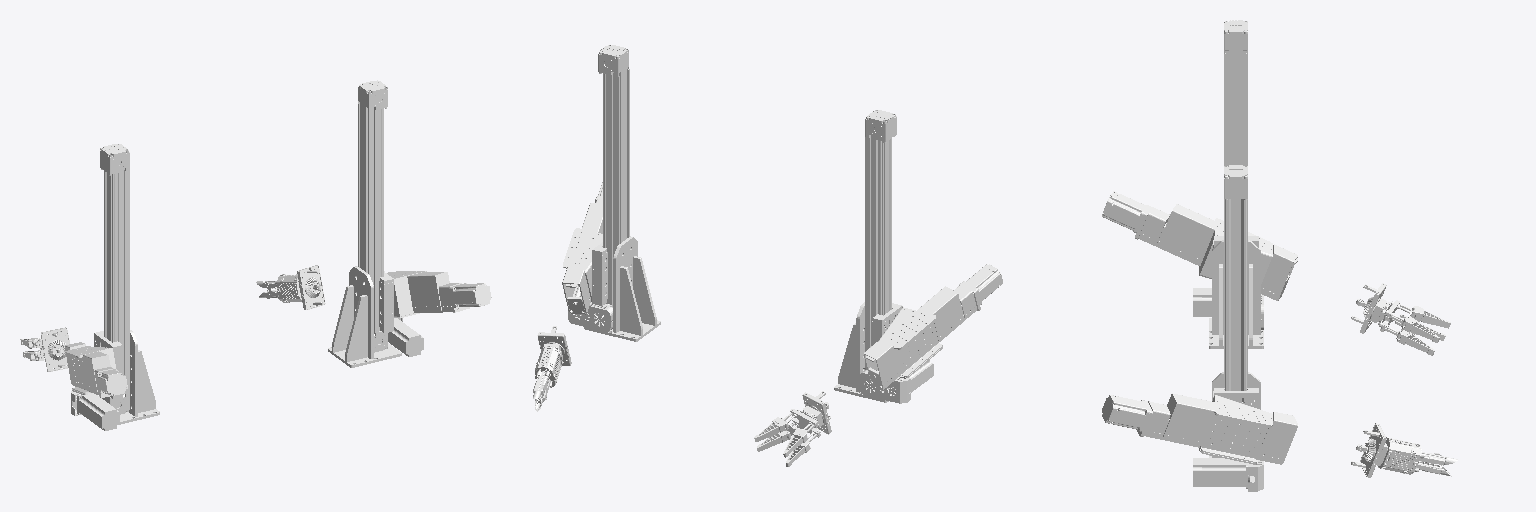
The robot description file, URDF, robot "double_arm_robot":
<?xml version="1.0" encoding="utf-8"?>
<!-- This URDF was automatically created by SolidWorks to URDF Exporter! Originally created by Stephen Brawner (brawner@gmail.com) 
     Commit Version: 1.6.0-4-g7f85cfe  Build Version: 1.6.7995.38578
     For more information, please see http://wiki.ros.org/sw_urdf_exporter -->
<robot
  name="double_arm_robot">
  <link
    name="base_link">
    <inertial>
      <origin
        xyz="0.39112 -0.004586 -0.30234"
        rpy="0 0 0" />
      <mass
        value="57.511" />
      <inertia
        ixx="0.61783"
        ixy="9.8505E-05"
        ixz="-5.1567E-07"
        iyy="1.5192"
        iyz="-0.00061905"
        izz="1.484" />
    </inertial>
    <visual>
      <origin
        xyz="0 0 0"
        rpy="0 0 0" />
      <geometry>
        <mesh
          filename="package://double_arm_robot/meshes/base_link.STL" />
      </geometry>
      <material
        name="">
        <color
          rgba="1 1 1 1" />
      </material>
    </visual>
    <collision>
      <origin
        xyz="0 0 0"
        rpy="0 0 0" />
      <geometry>
        <mesh
          filename="package://double_arm_robot/meshes/base_link.STL" />
      </geometry>
    </collision>
  </link>
  <link
    name="L_Link_1">
    <inertial>
      <origin
        xyz="-0.024771 -0.0043237 0.28739"
        rpy="0 0 0" />
      <mass
        value="3.1457" />
      <inertia
        ixx="0.067494"
        ixy="-2.2004E-06"
        ixz="6.2878E-05"
        iyy="0.067114"
        iyz="9.2361E-09"
        izz="0.0024915" />
    </inertial>
    <visual>
      <origin
        xyz="0 0 0"
        rpy="0 0 0" />
      <geometry>
        <mesh
          filename="package://double_arm_robot/meshes/L_Link_1.STL" />
      </geometry>
      <material
        name="">
        <color
          rgba="1 1 1 1" />
      </material>
    </visual>
    <collision>
      <origin
        xyz="0 0 0"
        rpy="0 0 0" />
      <geometry>
        <mesh
          filename="package://double_arm_robot/meshes/L_Link_1.STL" />
      </geometry>
    </collision>
  </link>



  <joint
    name="L_Joint_1"
    type="prismatic">
    <origin
      xyz="0 0 0"
      rpy="0 0 0" />
    <parent
      link="base_link" />
    <child
      link="L_Link_1" />
    <axis
      xyz="1 0 0" />
    <limit
      lower="0"
      upper="0.28"
      effort="0"
      velocity="0" />
  </joint>
  <link
    name="L_Link_2">
    <inertial>
      <origin
        xyz="-0.067025 -0.078651 0.101"
        rpy="0 0 0" />
      <mass
        value="1.5139" />
      <inertia
        ixx="0.0054325"
        ixy="-0.00072379"
        ixz="0.0002593"
        iyy="0.0024927"
        iyz="0.0007735"
        izz="0.0041891" />
    </inertial>
    <visual>
      <origin
        xyz="0 0 0"
        rpy="0 0 0" />
      <geometry>
        <mesh
          filename="package://double_arm_robot/meshes/L_Link_2.STL" />
      </geometry>
      <material
        name="">
        <color
          rgba="1 1 1 1" />
      </material>
    </visual>
    <collision>
      <origin
        xyz="0 0 0"
        rpy="0 0 0" />
      <geometry>
        <mesh
          filename="package://double_arm_robot/meshes/L_Link_2.STL" />
      </geometry>
    </collision>
  </link>


  <joint
    name="L_Joint_2"
    type="prismatic">
    <origin
      xyz="-0.04907 -4.0933E-05 0.06775"
      rpy="0 0 0" />
    <parent
      link="L_Link_1" />
    <child
      link="L_Link_2" />
    <axis
      xyz="0 0 -1" />
    <limit
      lower="-0.5"
      upper="0.05"
      effort="0"
      velocity="0" />
  </joint>



  <link
    name="L_Link_3">
    <inertial>
      <origin
        xyz="-5.6684E-05 0.26922 0.00033286"
        rpy="0 0 0" />
      <mass
        value="0.29852" />
      <inertia
        ixx="0.0013422"
        ixy="-8.2507E-08"
        ixz="3.3034E-07"
        iyy="9.1593E-05"
        iyz="7.0197E-07"
        izz="0.0013466" />
    </inertial>
    <visual>
      <origin
        xyz="0 0 0"
        rpy="0 0 0" />
      <geometry>
        <mesh
          filename="package://double_arm_robot/meshes/L_Link_3.STL" />
      </geometry>
      <material
        name="">
        <color
          rgba="1 1 1 1" />
      </material>
    </visual>
    <collision>
      <origin
        xyz="0 0 0"
        rpy="0 0 0" />
      <geometry>
        <mesh
          filename="package://double_arm_robot/meshes/L_Link_3.STL" />
      </geometry>
    </collision>
  </link>



  <joint
    name="L_Joint_3"
    type="prismatic">
    <origin
      xyz="-0.11137 -0.16079 0.16664"
      rpy="-0.33807 -0.088637 -0.24666" />
    <parent
      link="L_Link_2" />
    <child
      link="L_Link_3" />
    <axis
      xyz="0 1 0" />
    <limit
      lower="-0.01"
      upper="0.25"
      effort="0"
      velocity="0" />
  </joint>



  <link
    name="L_Link_4">
    <inertial>
      <origin
        xyz="1.6778E-06 0.064046 2.4249E-05"
        rpy="0 0 0" />
      <mass
        value="0.24856" />
      <inertia
        ixx="0.00012628"
        ixy="-3.9951E-10"
        ixz="9.3763E-08"
        iyy="0.00014245"
        iyz="-9.2122E-09"
        izz="0.00019433" />
    </inertial>
    <visual>
      <origin
        xyz="0 0 0"
        rpy="0 0 0" />
      <geometry>
        <mesh
          filename="package://double_arm_robot/meshes/L_Link_4.STL" />
      </geometry>
      <material
        name="">
        <color
          rgba="1 1 1 1" />
      </material>
    </visual>
    <collision>
      <origin
        xyz="0 0 0"
        rpy="0 0 0" />
      <geometry>
        <mesh
          filename="package://double_arm_robot/meshes/L_Link_4.STL" />
      </geometry>
    </collision>
  </link>



  <joint
    name="L_Joint_4"
    type="revolute">
    <origin
      xyz="0 0.38477 0.00041604"
      rpy="0 0 0" />
    <parent
      link="L_Link_3" />
    <child
      link="L_Link_4" />
    <axis
      xyz="0 1 0" />
    <limit
      lower="-2.3562"
      upper="2.3562"
      effort="0"
      velocity="0" />
  </joint>




  <link
    name="L_Link_5">
    <inertial>
      <origin
        xyz="0.00049424 0.031226 -0.045011"
        rpy="0 0 0" />
      <mass
        value="0.058132" />
      <inertia
        ixx="5.4412E-05"
        ixy="8.3931E-13"
        ixz="-1.3302E-10"
        iyy="8.4403E-05"
        iyz="-4.8478E-09"
        izz="3.265E-05" />
    </inertial>
    <visual>
      <origin
        xyz="0 0 0"
        rpy="0 0 0" />
      <geometry>
        <mesh
          filename="package://double_arm_robot/meshes/L_Link_5.STL" />
      </geometry>
      <material
        name="">
        <color
          rgba="1 1 1 1" />
      </material>
    </visual>
    <collision>
      <origin
        xyz="0 0 0"
        rpy="0 0 0" />
      <geometry>
        <mesh
          filename="package://double_arm_robot/meshes/L_Link_5.STL" />
      </geometry>
    </collision>
  </link>




  <joint
    name="L_Joint_5"
    type="revolute">
    <origin
      xyz="-0.00073394 0.12758 0.045"
      rpy="0 0 0" />
    <parent
      link="L_Link_4" />
    <child
      link="L_Link_5" />
    <axis
      xyz="0 0 -1" />
    <limit
      lower="-1.57"
      upper="1.57"
      effort="0"
      velocity="0" />
  </joint>




  <link
    name="L_Link_6">
    <inertial>
      <origin
        xyz="1.8034E-07 0.056195 5.7197E-05"
        rpy="0 0 0" />
      <mass
        value="0.28245" />
      <inertia
        ixx="8.7418E-05"
        ixy="1.8572E-11"
        ixz="1.0663E-08"
        iyy="0.00010574"
        iyz="3.9999E-08"
        izz="0.00011382" />
    </inertial>
    <visual>
      <origin
        xyz="0 0 0"
        rpy="0 0 0" />
      <geometry>
        <mesh
          filename="package://double_arm_robot/meshes/L_Link_6.STL" />
      </geometry>
      <material
        name="">
        <color
          rgba="1 1 1 1" />
      </material>
    </visual>
    <collision>
      <origin
        xyz="0 0 0"
        rpy="0 0 0" />
      <geometry>
        <mesh
          filename="package://double_arm_robot/meshes/L_Link_6.STL" />
      </geometry>
    </collision>
  </link>



  <joint
    name="L_Joint_6"
    type="revolute">
    <origin
      xyz="0.00073394 0.040168 -0.045"
      rpy="0 0 0" />
    <parent
      link="L_Link_5" />
    <child
      link="L_Link_6" />
    <axis
      xyz="0 -1 0" />
    <limit
      lower="-2.3562"
      upper="2.3562"
      effort="0"
      velocity="0" />
  </joint>




  <link
    name="R_Link_1">
    <inertial>
      <origin
        xyz="0.024771 -0.0042446 0.28739"
        rpy="0 0 0" />
      <mass
        value="3.1457" />
      <inertia
        ixx="0.067494"
        ixy="2.2064E-06"
        ixz="-6.2878E-05"
        iyy="0.067114"
        iyz="2.248E-08"
        izz="0.0024915" />
    </inertial>
    <visual>
      <origin
        xyz="0 0 0"
        rpy="0 0 0" />
      <geometry>
        <mesh
          filename="package://double_arm_robot/meshes/R_Link_1.STL" />
      </geometry>
      <material
        name="">
        <color
          rgba="1 1 1 1" />
      </material>
    </visual>
    <collision>
      <origin
        xyz="0 0 0"
        rpy="0 0 0" />
      <geometry>
        <mesh
          filename="package://double_arm_robot/meshes/R_Link_1.STL" />
      </geometry>
    </collision>
  </link>


  <joint
    name="R_Joint_1"
    type="prismatic">
    <origin
      xyz="0.78482 -8.1869E-05 0"
      rpy="0 0 0" />
    <parent
      link="base_link" />
    <child
      link="R_Link_1" />
    <axis
      xyz="1 0 0" />
    <limit
      lower="-0.31"
      upper="0.01"
      effort="0"
      velocity="0" />
  </joint>



  <link
    name="R_Link_2">
    <inertial>
      <origin
        xyz="0.067023 -0.078652 0.101"
        rpy="0 0 0" />
      <mass
        value="1.5139" />
      <inertia
        ixx="0.0054325"
        ixy="0.00072377"
        ixz="-0.00025932"
        iyy="0.0024927"
        iyz="0.0007735"
        izz="0.0041891" />
    </inertial>
    <visual>
      <origin
        xyz="0 0 0"
        rpy="0 0 0" />
      <geometry>
        <mesh
          filename="package://double_arm_robot/meshes/R_Link_2.STL" />
      </geometry>
      <material
        name="">
        <color
          rgba="1 1 1 1" />
      </material>
    </visual>
    <collision>
      <origin
        xyz="0 0 0"
        rpy="0 0 0" />
      <geometry>
        <mesh
          filename="package://double_arm_robot/meshes/R_Link_2.STL" />
      </geometry>
    </collision>
  </link>




  <joint
    name="R_Joint_2"
    type="prismatic">
    <origin
      xyz="0.04907 4.0935E-05 0.06775"
      rpy="0 0 0" />
    <parent
      link="R_Link_1" />
    <child
      link="R_Link_2" />
    <axis
      xyz="0 0 -1" />
    <limit
      lower="-0.5"
      upper="0.05"
      effort="0"
      velocity="0" />
  </joint>



  <link
    name="R_Link_3">
    <inertial>
      <origin
        xyz="-5.6684E-05 0.26922 0.00033286"
        rpy="0 0 0" />
      <mass
        value="0.29852" />
      <inertia
        ixx="0.0013422"
        ixy="-8.2507E-08"
        ixz="3.3034E-07"
        iyy="9.1593E-05"
        iyz="7.0197E-07"
        izz="0.0013466" />
    </inertial>
    <visual>
      <origin
        xyz="0 0 0"
        rpy="0 0 0" />
      <geometry>
        <mesh
          filename="package://double_arm_robot/meshes/R_Link_3.STL" />
      </geometry>
      <material
        name="">
        <color
          rgba="1 1 1 1" />
      </material>
    </visual>
    <collision>
      <origin
        xyz="0 0 0"
        rpy="0 0 0" />
      <geometry>
        <mesh
          filename="package://double_arm_robot/meshes/R_Link_3.STL" />
      </geometry>
    </collision>
  </link>




  <joint
    name="R_Joint_3"
    type="prismatic">
    <origin
      xyz="0.11137 -0.16079 0.16664"
      rpy="-0.33807 0.088637 0.24666" />
    <parent
      link="R_Link_2" />
    <child
      link="R_Link_3" />
    <axis
      xyz="0 -1 0" />
    <limit
      lower="-0.25"
      upper="0.01"
      effort="0"
      velocity="0" />
  </joint>



  <link
    name="R_Link_4">
    <inertial>
      <origin
        xyz="1.6772E-06 0.064046 2.425E-05"
        rpy="0 0 0" />
      <mass
        value="0.24856" />
      <inertia
        ixx="0.00012628"
        ixy="-4.1672E-10"
        ixz="9.3775E-08"
        iyy="0.00014245"
        iyz="-9.2221E-09"
        izz="0.00019433" />
    </inertial>
    <visual>
      <origin
        xyz="0 0 0"
        rpy="0 0 0" />
      <geometry>
        <mesh
          filename="package://double_arm_robot/meshes/R_Link_4.STL" />
      </geometry>
      <material
        name="">
        <color
          rgba="1 1 1 1" />
      </material>
    </visual>
    <collision>
      <origin
        xyz="0 0 0"
        rpy="0 0 0" />
      <geometry>
        <mesh
          filename="package://double_arm_robot/meshes/R_Link_4.STL" />
      </geometry>
    </collision>
  </link>



  <joint
    name="R_Joint_4"
    type="revolute">
    <origin
      xyz="0 0.38477 0.00041604"
      rpy="0 0 0" />
    <parent
      link="R_Link_3" />
    <child
      link="R_Link_4" />
    <axis
      xyz="0 1 0" />
    <limit
      lower="-2.3562"
      upper="2.3562"
      effort="0"
      velocity="0" />
  </joint>



  <link
    name="R_Link_5">
    <inertial>
      <origin
        xyz="-0.0002397 0.033058 -0.046211"
        rpy="0 0 0" />
      <mass
        value="0.058132" />
      <inertia
        ixx="5.4412E-05"
        ixy="4.8396E-13"
        ixz="-1.3289E-10"
        iyy="8.4403E-05"
        iyz="-4.8477E-09"
        izz="3.265E-05" />
    </inertial>
    <visual>
      <origin
        xyz="0 0 0"
        rpy="0 0 0" />
      <geometry>
        <mesh
          filename="package://double_arm_robot/meshes/R_Link_5.STL" />
      </geometry>
      <material
        name="">
        <color
          rgba="1 1 1 1" />
      </material>
    </visual>
    <collision>
      <origin
        xyz="0 0 0"
        rpy="0 0 0" />
      <geometry>
        <mesh
          filename="package://double_arm_robot/meshes/R_Link_5.STL" />
      </geometry>
    </collision>
  </link>






  <joint
    name="R_Joint_5"
    type="revolute">
    <origin
      xyz="0 0.12575 0.0462"
      rpy="0 0 0" />
    <parent
      link="R_Link_4" />
    <child
      link="R_Link_5" />
    <axis
      xyz="0 0 1" />
    <limit
      lower="-1.57"
      upper="1.57"
      effort="0"
      velocity="0" />
  </joint>




  <link
    name="R_Link_6">
    <inertial>
      <origin
        xyz="2.3467E-05 0.053535 -0.00013448"
        rpy="0 0 0" />
      <mass
        value="0.20529" />
      <inertia
        ixx="0.00011254"
        ixy="2.7138E-08"
        ixz="6.6416E-06"
        iyy="8.4812E-05"
        iyz="-6.1301E-11"
        izz="8.4031E-05" />
    </inertial>
    <visual>
      <origin
        xyz="0 0 0"
        rpy="0 0 0" />
      <geometry>
        <mesh
          filename="package://double_arm_robot/meshes/R_Link_6.STL" />
      </geometry>
      <material
        name="">
        <color
          rgba="1 1 1 1" />
      </material>
    </visual>
    <collision>
      <origin
        xyz="0 0 0"
        rpy="0 0 0" />
      <geometry>
        <mesh
          filename="package://double_arm_robot/meshes/R_Link_6.STL" />
      </geometry>
    </collision>
  </link>





  <joint
    name="R_Joint_6"
    type="revolute">
    <origin
      xyz="0 0.042 -0.0462"
      rpy="0 0 0" />
    <parent
      link="R_Link_5" />
    <child
      link="R_Link_6" />
    <axis
      xyz="0 -1 0" />
    <limit
      lower="-2.3562"
      upper="2.3562"
      effort="0"
      velocity="0" />
  </joint>
</robot>

--- Render facts (derived) ---
Views: 3 orthographic renders of the robot side by side, from view 1: azimuth 30°, elevation 25°; view 2: azimuth 150°, elevation 25°; view 3: azimuth 270°, elevation 25°.
Robot: double_arm_robot — 13 links, 12 joints (6 revolute, 6 prismatic); root link base_link; default pose: all joints at 0.
Links seen in each view (by area): view 1: R_Link_1, L_Link_1, R_Link_2, L_Link_2, R_Link_6, L_Link_5, R_Link_5, L_Link_6; view 2: R_Link_1, L_Link_1, L_Link_2, R_Link_2, L_Link_6, R_Link_6; view 3: R_Link_2, R_Link_1, L_Link_1, L_Link_2, L_Link_6, R_Link_6, R_Link_5.
Boxes of the visible links, x1,y1,x2,y2 form: R_Link_1: (328,80,423,367); L_Link_1: (71,144,159,430); R_Link_2: (379,271,491,333); L_Link_2: (65,331,127,399); R_Link_6: (256,274,320,302); L_Link_5: (41,327,69,371); R_Link_5: (297,265,325,309); L_Link_6: (20,331,69,360); R_Link_1: (568,45,660,341); L_Link_1: (834,110,933,403); L_Link_2: (864,264,1002,389); R_Link_2: (562,182,607,314); L_Link_6: (754,406,823,466); R_Link_6: (533,343,564,411); R_Link_2: (1102,388,1298,464); R_Link_1: (1193,165,1263,491); L_Link_1: (1193,20,1263,348); L_Link_2: (1102,191,1297,300); L_Link_6: (1363,297,1450,355); R_Link_6: (1363,437,1457,476); R_Link_5: (1351,423,1386,477).
Size in the robot's own frame: 1.24 by 0.8722 by 0.8541 metres.
Meshes: 13 distinct files referenced, 8 mesh visuals loaded (8 binary STL); not drawn: 5 (reference not matched to a file when rendering).
